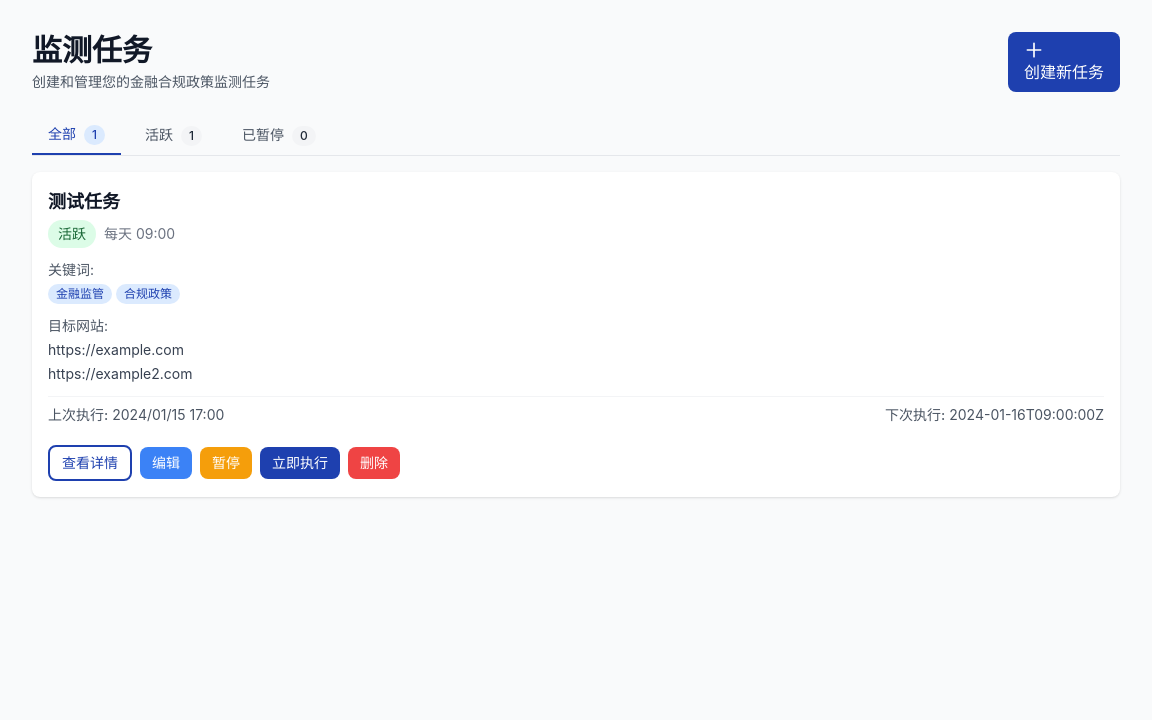
Test: Tasks Page › should open create modal when clicking create button
Click the button "创建新任务": (1064, 62) [1008,32,1120,92]
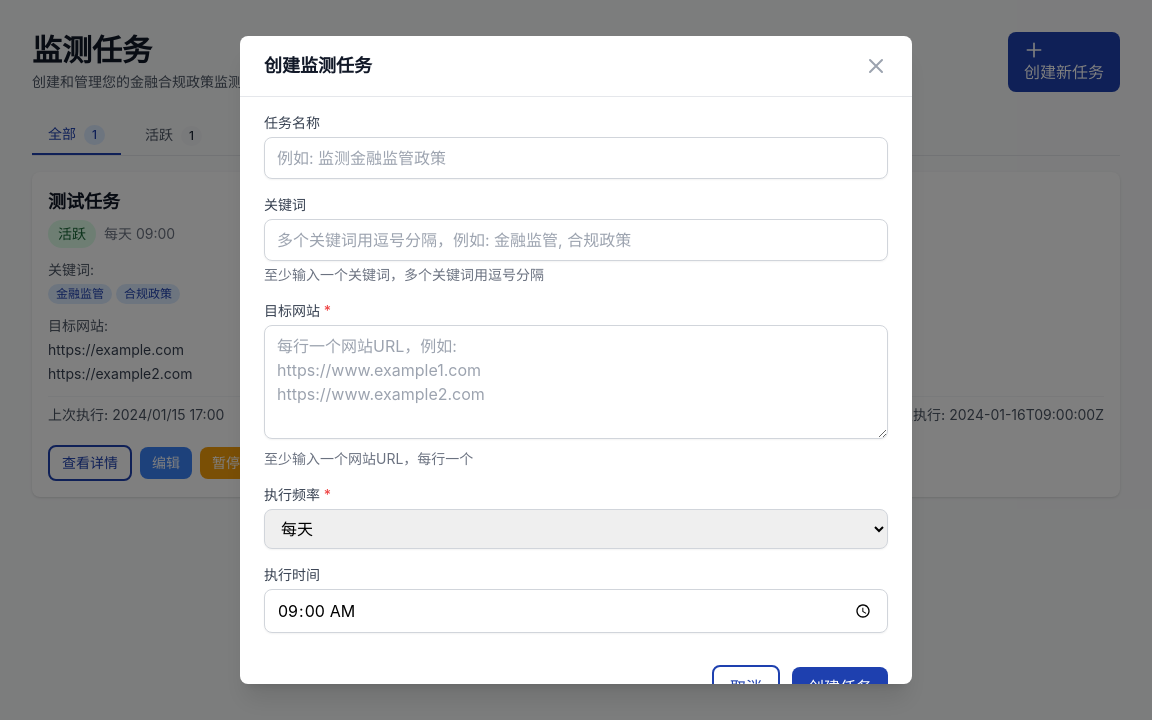
Result: the heading "创建监测任务" is shown at [264,52,372,80]
